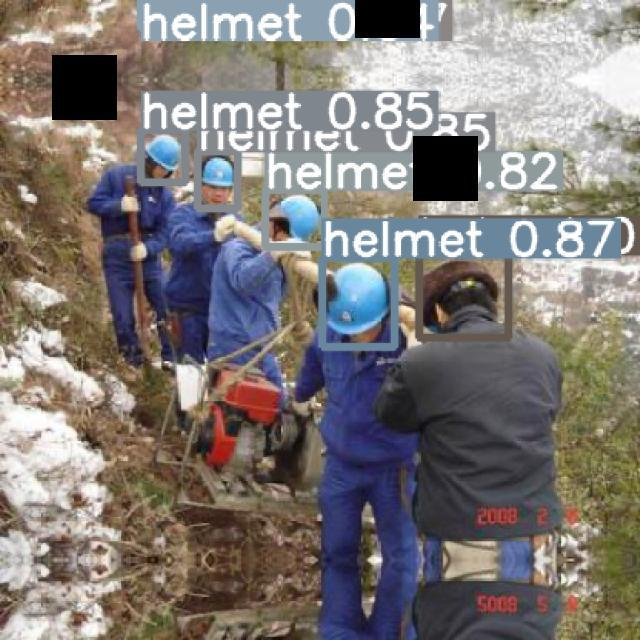helmet: (325, 262, 390, 335), (144, 134, 181, 171), (201, 157, 233, 187)
